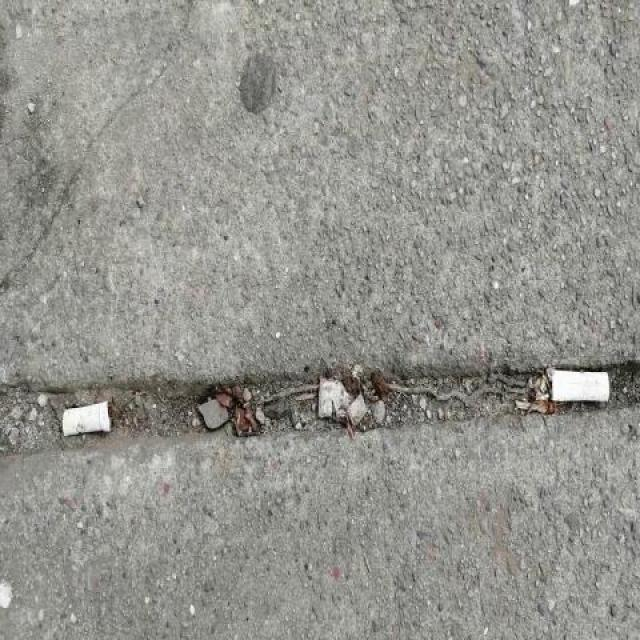non-organic waste: (547, 361, 612, 408), (57, 394, 112, 442)
